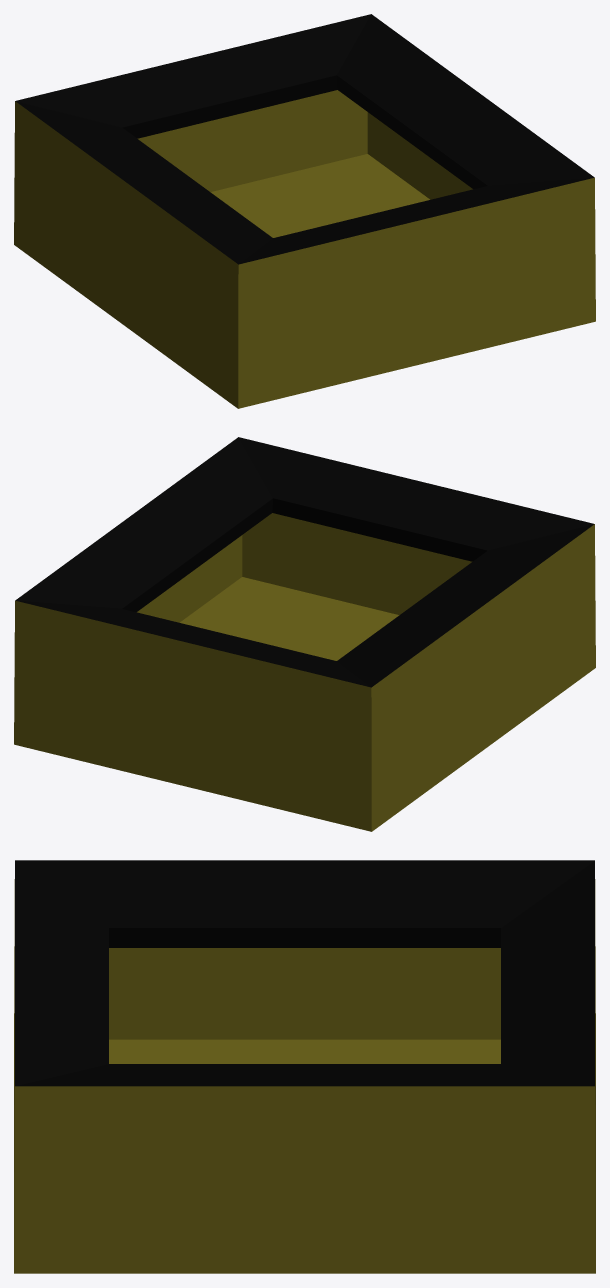
File: Maps.fbx
The picture shows the model from 3 angles, top to bottom: view 1: azimuth 30°, elevation 25°; view 2: azimuth 150°, elevation 25°; view 3: azimuth 270°, elevation 25°; orthographic projection. The views are drawn at different scales.
Visible parts, largest first — view 1: Arena; view 2: Arena; view 3: Arena.
Part boxes in pixels (box(x1,y1,x2,y2)): Arena: box(14, 14, 595, 408); Arena: box(14, 437, 595, 831); Arena: box(14, 860, 595, 1273).
Size of the model in its own units: 7470 by 2871 by 8106.
